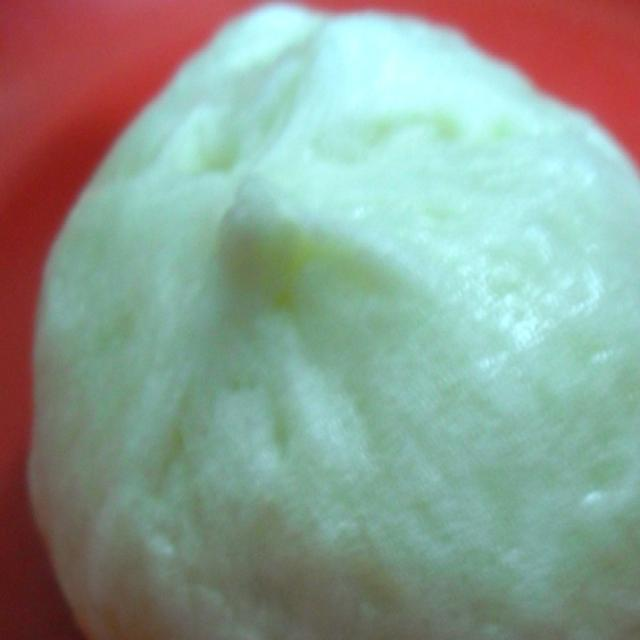带馅早点: (9, 18, 631, 632)
